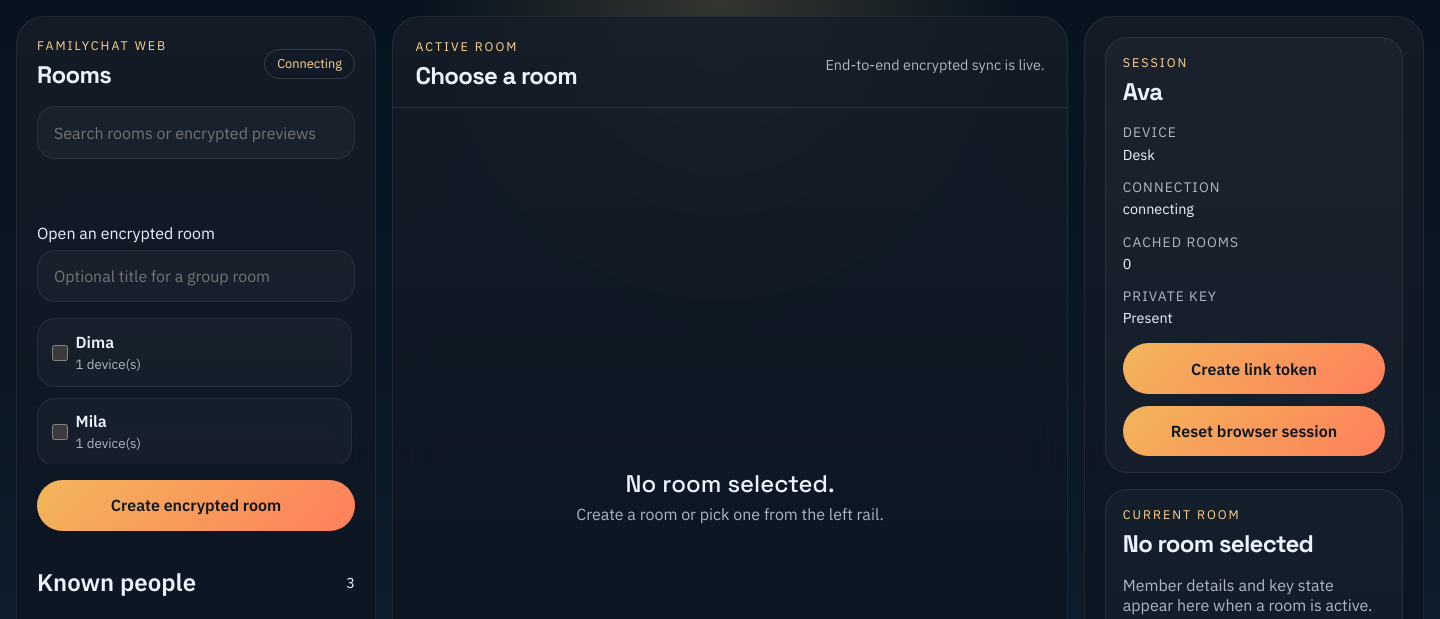
Test: App › creates an encrypted room with wrapped keys for selected members
Type "Weekend Plan" into the field with placeholder "Optional title for a group room" at (196, 276), box [37,250,355,302]
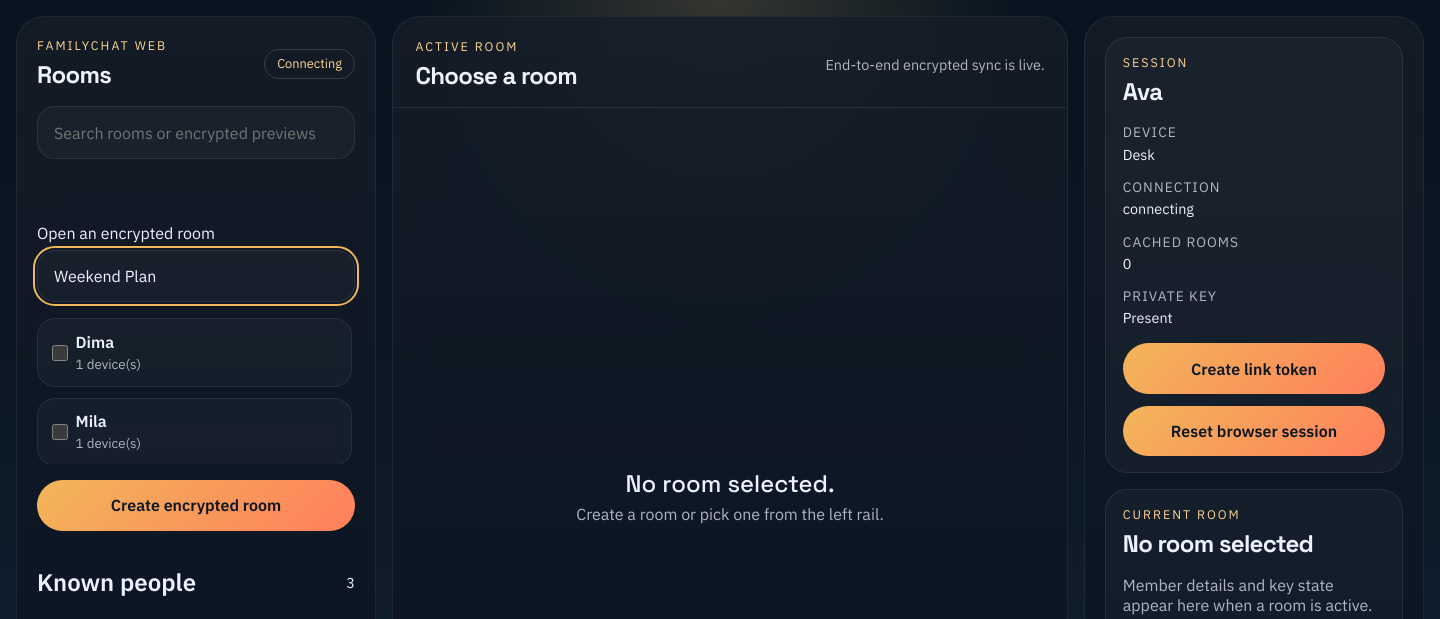
Click the checkbox labelled "Dima 1 device(s)" at (60, 353), box [52,345,68,361]
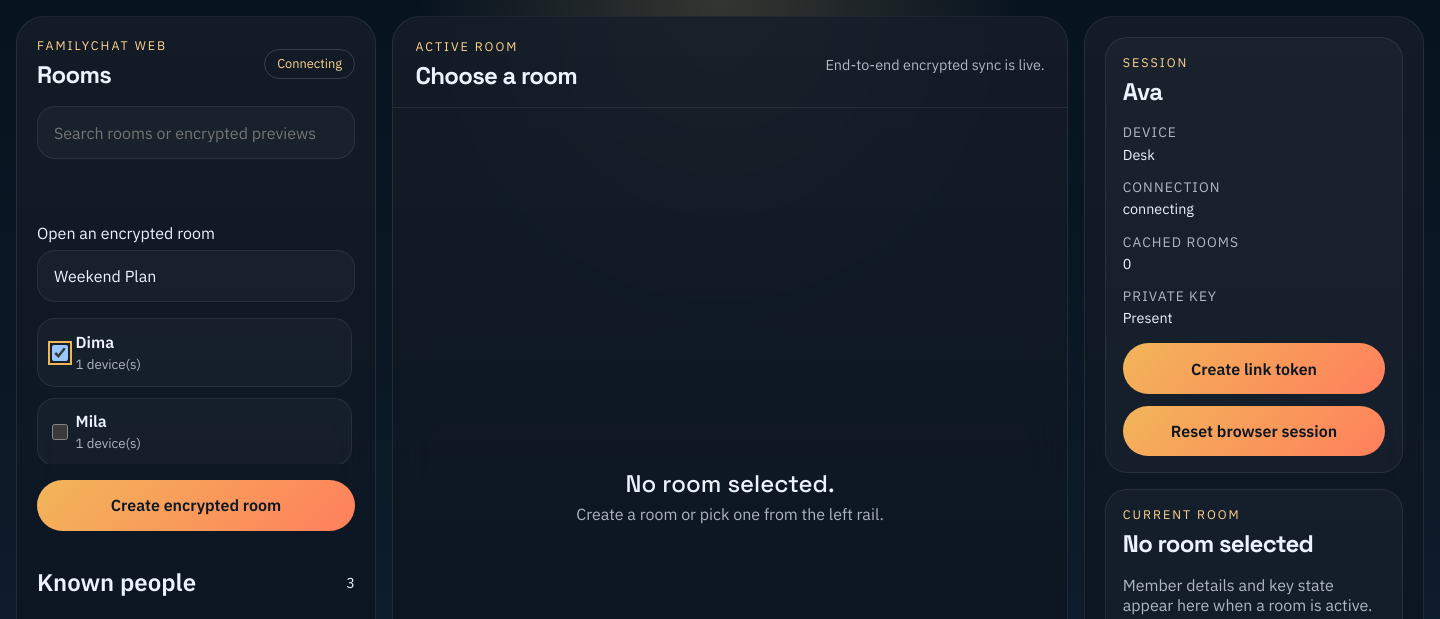
Click the button "Create encrypted room" at (196, 505), box [37,480,355,530]
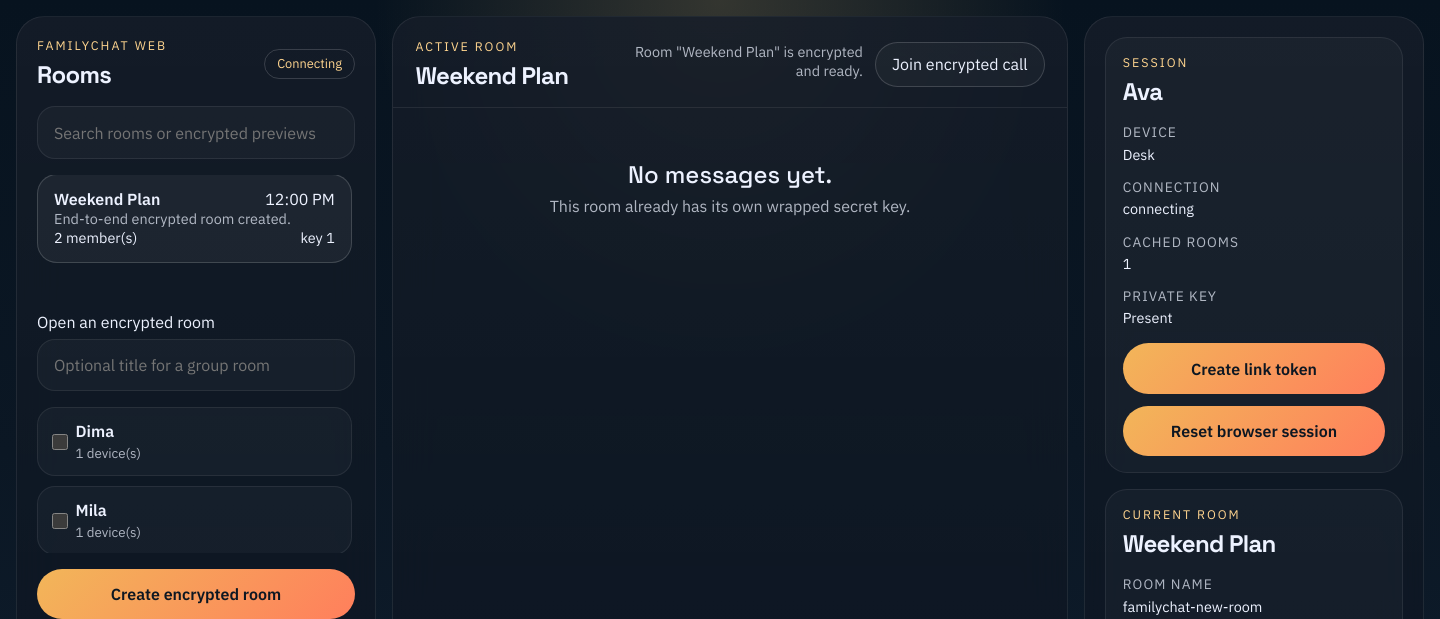
Result: the text "Room \"Weekend Plan\" is encrypted and ready." is shown at [621,42,863,80]
